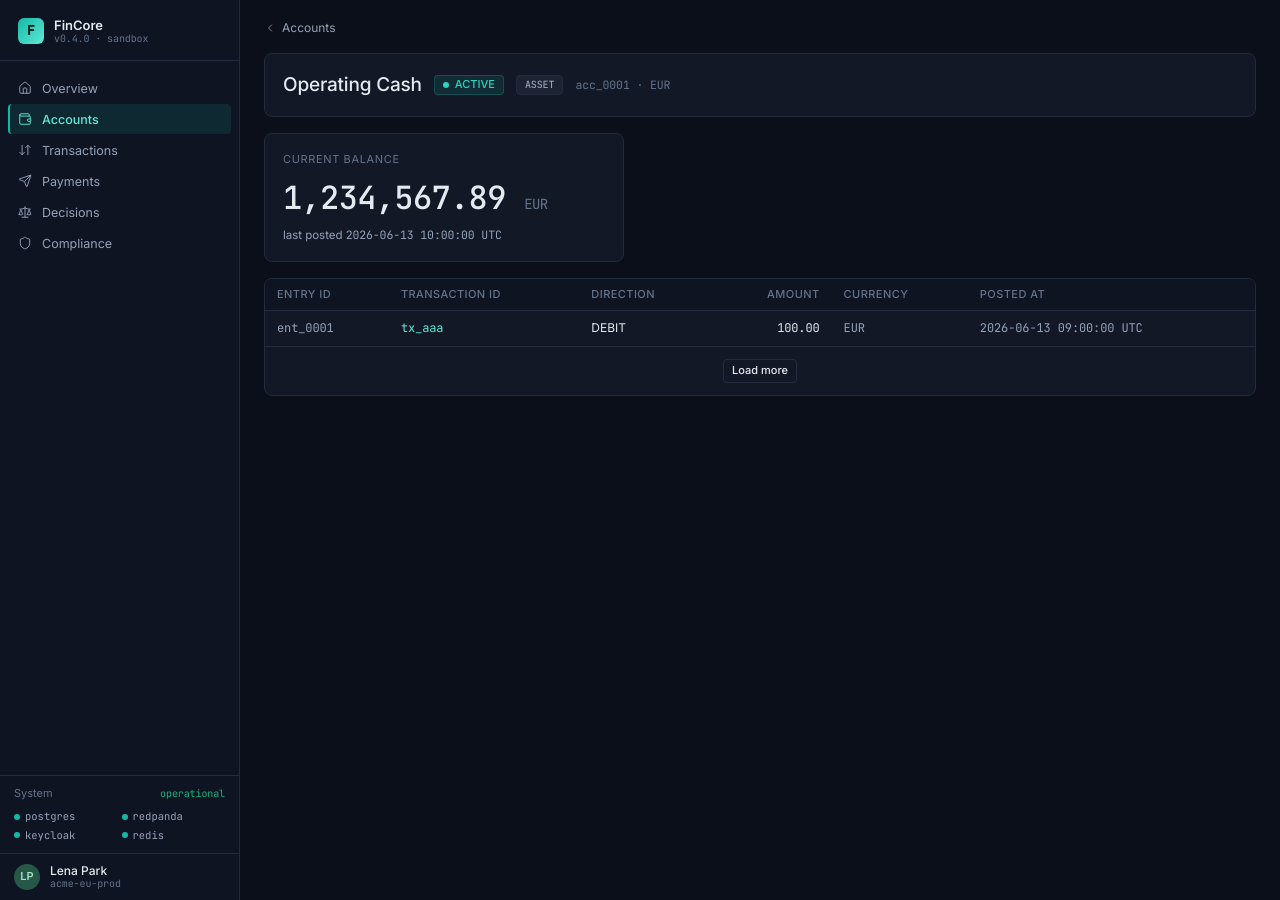
Test: AccountDetail › appends the next page and hides Load more when the cursor is exhausted
Expected: the text "ent_0001" is shown, [265,311,389,347]
Click the button "Load more" at [760, 371], box [723,359,797,383]
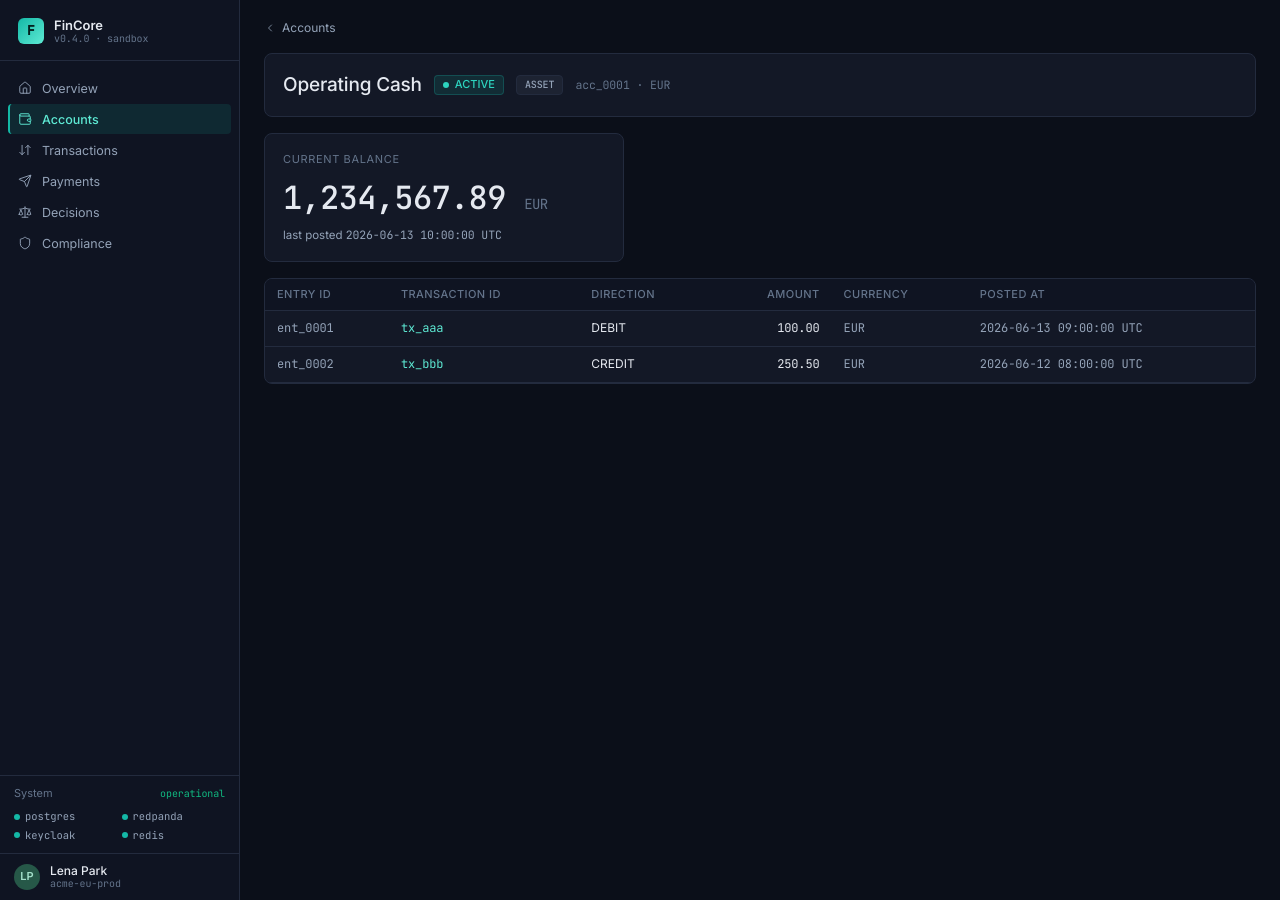
Result: the text "ent_0002" is shown at [265,347,389,383]
Result: the button "Load more" is gone
